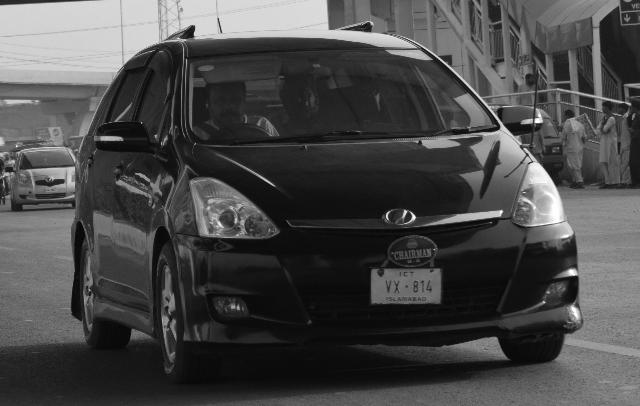Number: (381, 277, 435, 296)
